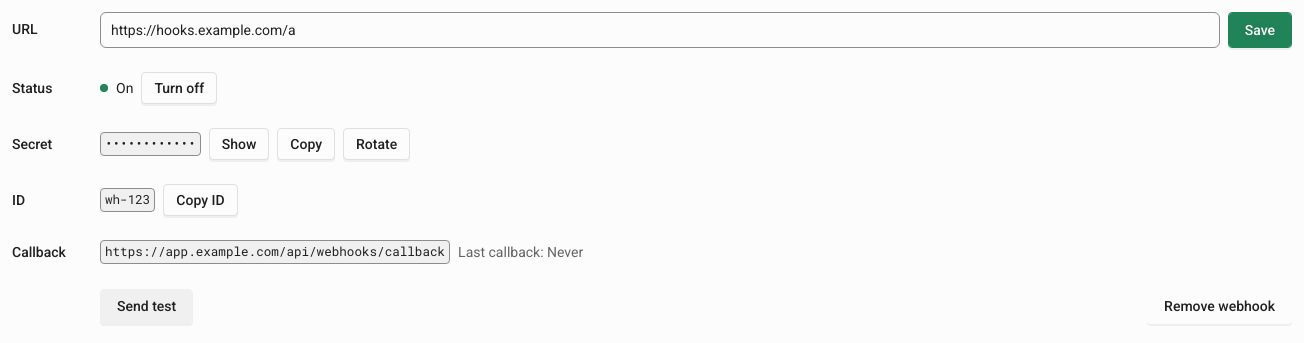
WebhookForm › on: status On, Turn off, the secret masked
Expected: the field labelled "URL" holds "https://hooks.example.com/a", 100,12 -> 1220,48
Expected: the text "On" is shown, 116,78 -> 133,98
Click the button "Show". click: coordinates (239, 144)
box: 209,128 -> 269,160
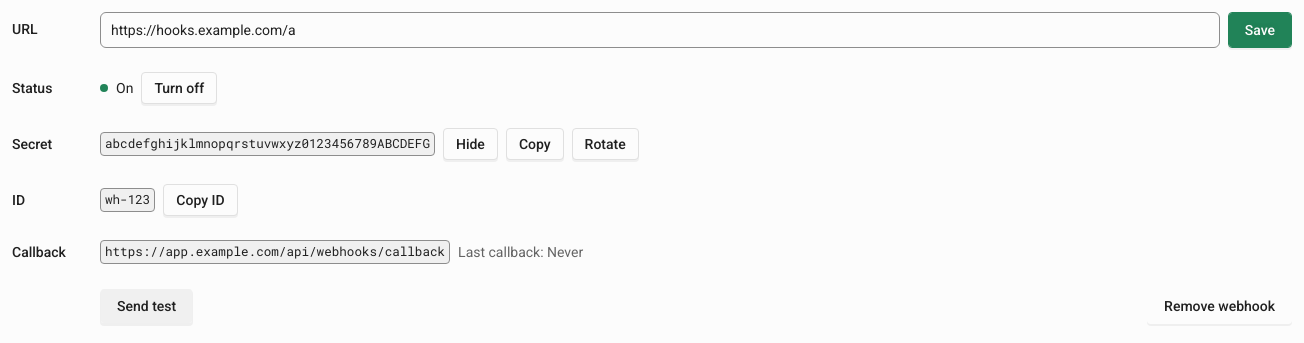
Result: the text "abcdefghijklmnopqrstuvwxyz0123456789ABCDEFG" is shown at 100,132 -> 435,156
Click the button "Hide". click: coordinates (470, 144)
box: 443,128 -> 498,160
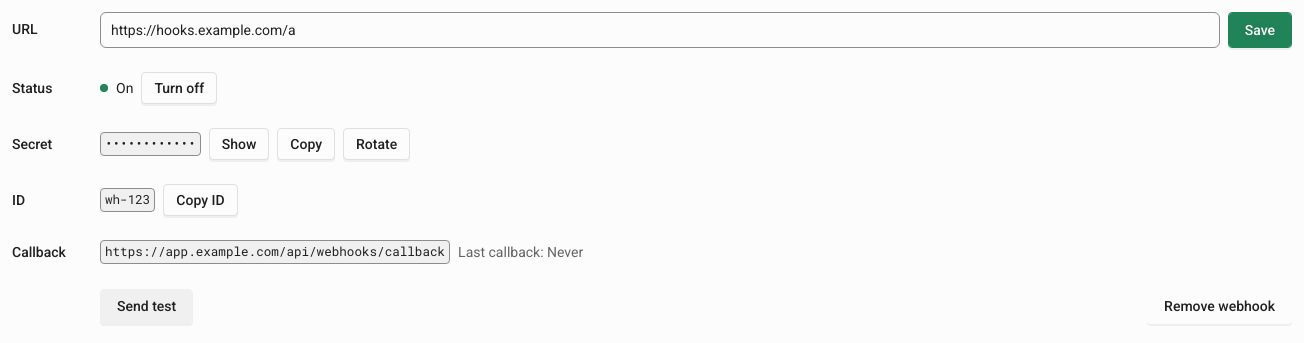
Expected: the button "Send test" is shown, 100,288 -> 193,324
Result: the text "abcdefghijklmnopqrstuvwxyz0123456789ABCDEFG" is gone
